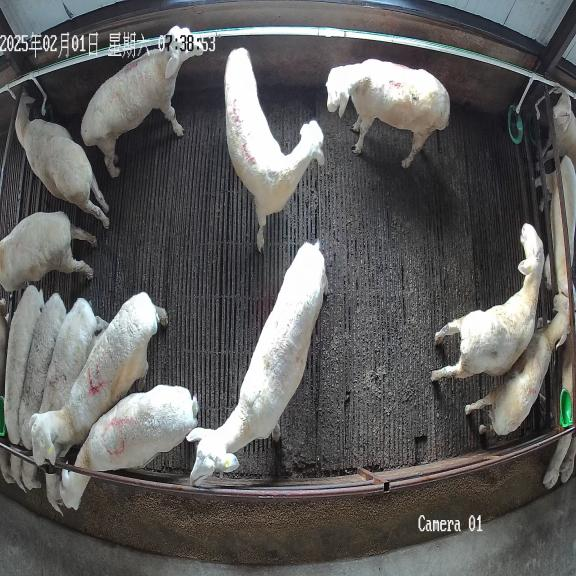drinking: (15, 91, 109, 228)
eating: (60, 385, 198, 510), (39, 298, 108, 512), (18, 293, 66, 490), (4, 286, 44, 490)
stand: (188, 242, 328, 485), (30, 292, 166, 466), (224, 48, 325, 251), (81, 26, 203, 177), (431, 223, 544, 381), (465, 293, 570, 435), (326, 59, 450, 168), (0, 212, 96, 291)
